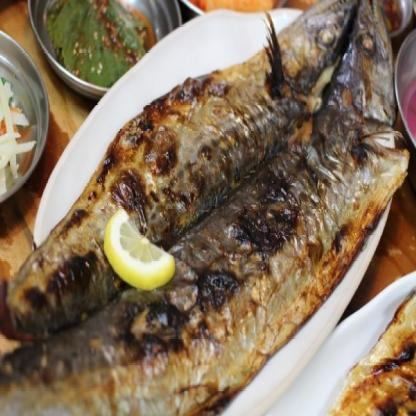Peixe: (0, 0, 408, 416)
